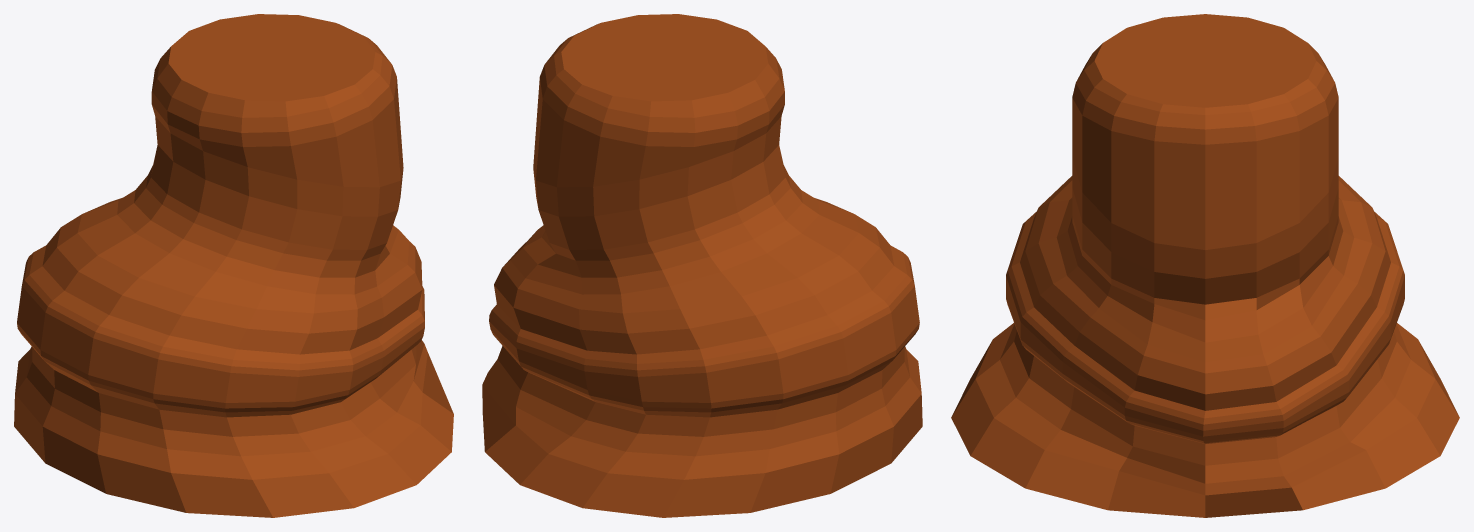
The model's file is agackok3.fbx.
3 renders of one model, left to right at view 1: azimuth 30°, elevation 25°; view 2: azimuth 150°, elevation 25°; view 3: azimuth 270°, elevation 25°, orthographic. The views are drawn at different scales.
Parts seen in each view (by area): view 1: Cylinder.020; view 2: Cylinder.020; view 3: Cylinder.020.
Part boxes in pixels (x1,y1,x2,y2): Cylinder.020: [14, 14, 453, 517]; Cylinder.020: [482, 14, 922, 517]; Cylinder.020: [951, 14, 1459, 517].
Bounding box in the file's own units: 4.29 × 3.87 × 4.58.
